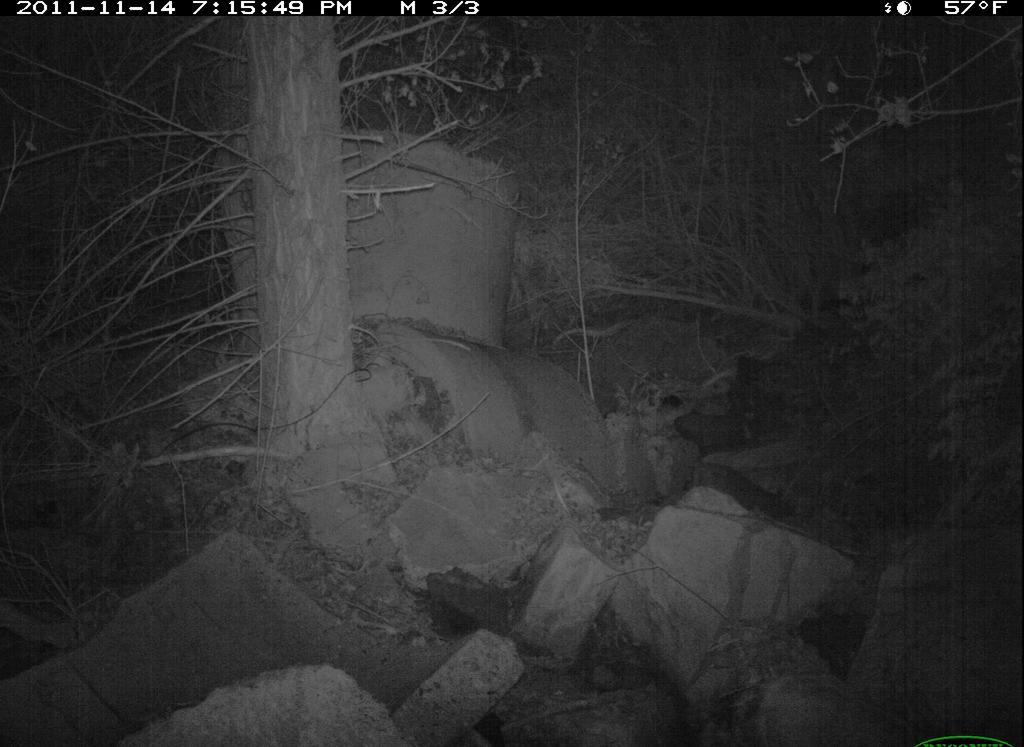bobcat: (722, 661, 955, 747)
